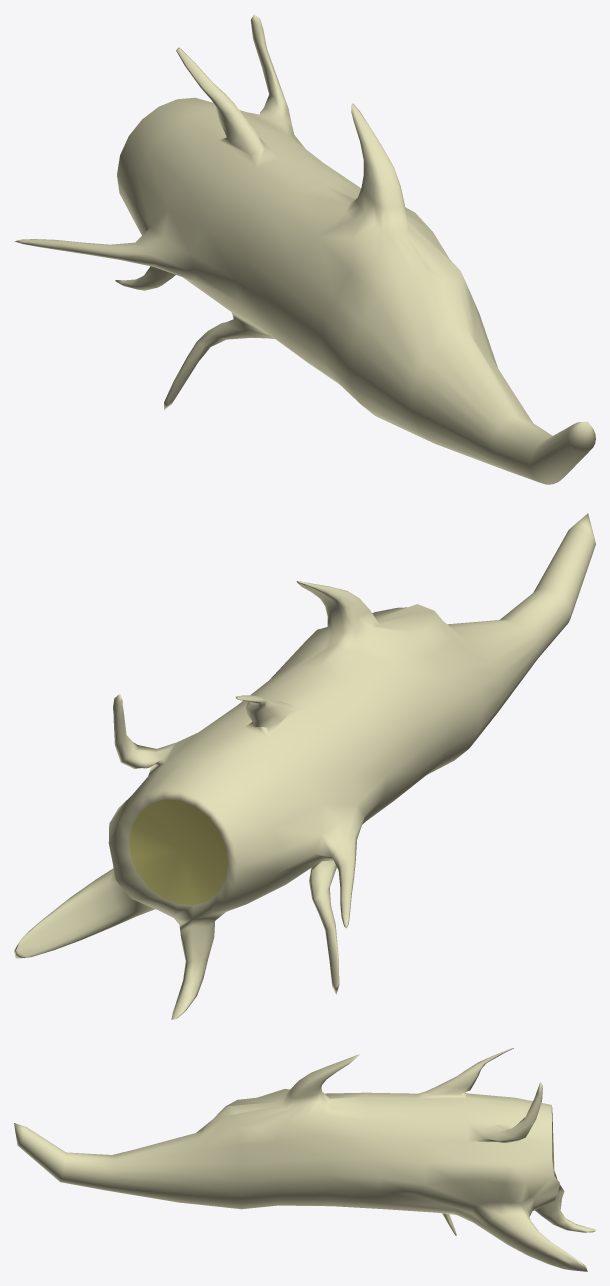
The picture shows the model from 3 angles, top to bottom: view 1: azimuth 30°, elevation 25°; view 2: azimuth 150°, elevation 25°; view 3: azimuth 270°, elevation 25°; orthographic projection. The views are drawn at different scales.
Parts seen in each view (by area): view 1: pCylinder1; view 2: pCylinder1; view 3: pCylinder1.
Boxes of the visible parts, x1,y1,x2,y2 form: pCylinder1: [14, 14, 595, 484]; pCylinder1: [14, 513, 595, 1019]; pCylinder1: [14, 1048, 595, 1271].
Bounding box in the file's own units: 1.69 × 1.76 × 4.26.
